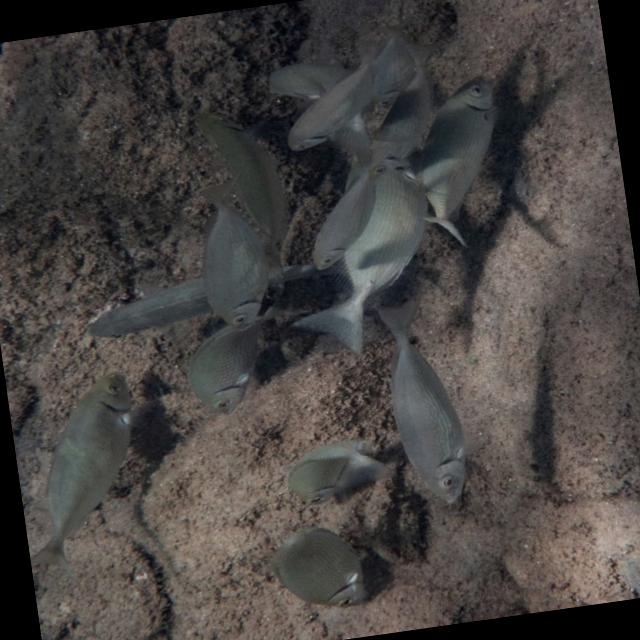Sokar Baligi: (6, 363, 170, 591), (361, 286, 490, 516), (260, 505, 378, 619)
